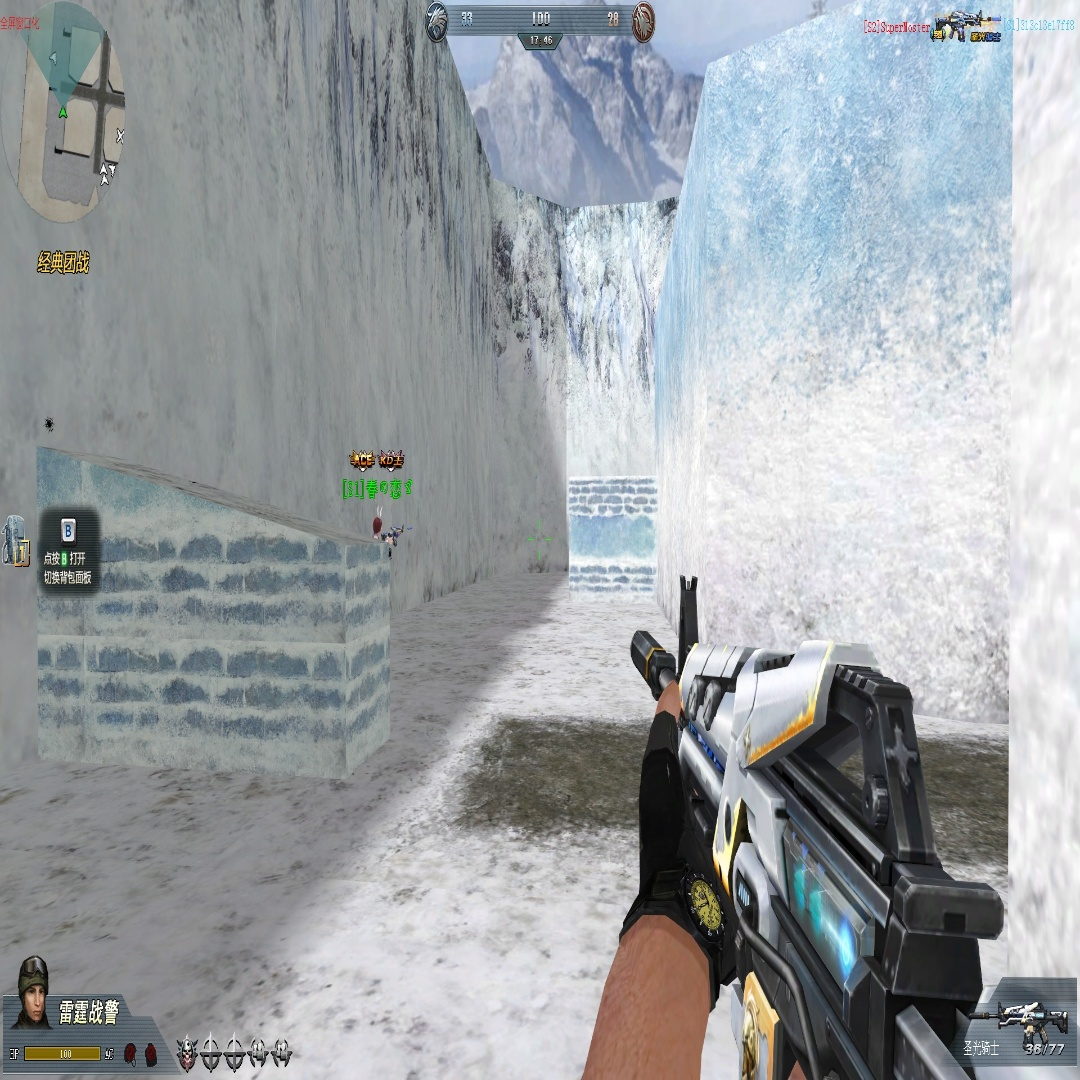ct: (372, 513, 400, 560)
